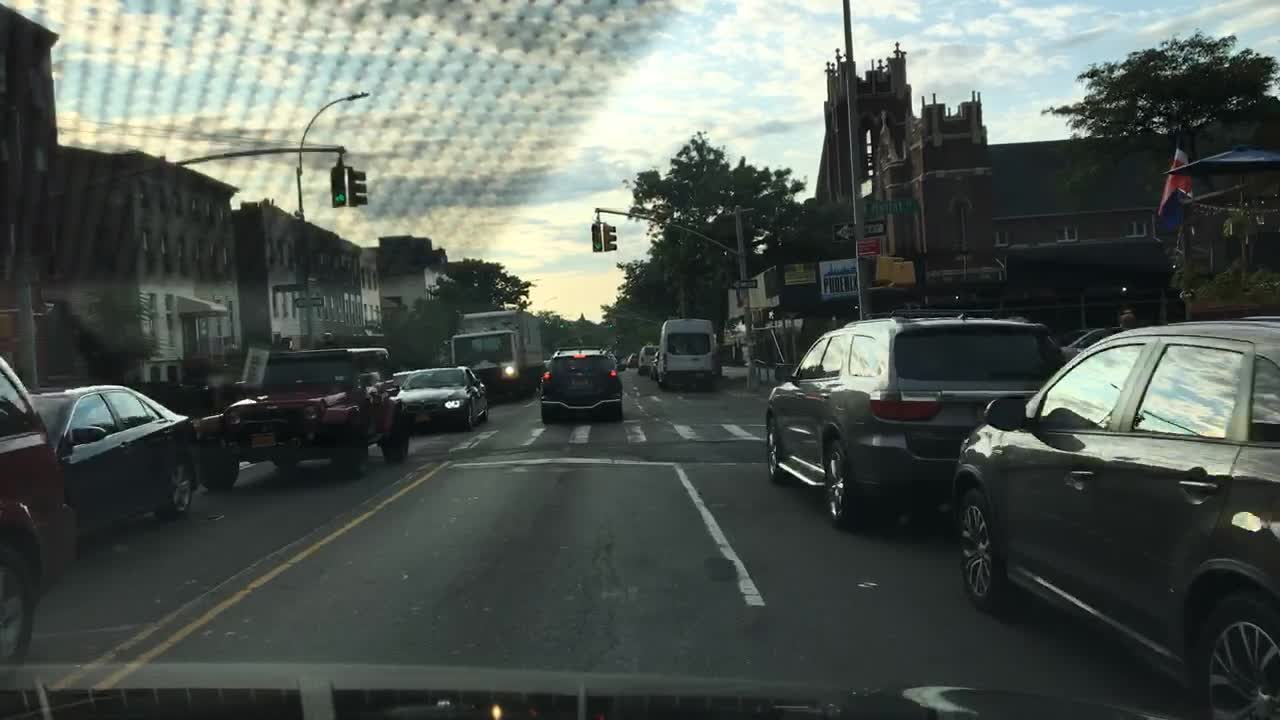car: (950, 317, 1279, 719), (764, 307, 1068, 530), (23, 385, 202, 542), (0, 354, 77, 661), (536, 347, 624, 427), (398, 366, 489, 435), (658, 317, 719, 395), (1051, 322, 1113, 363), (388, 368, 415, 396), (634, 341, 656, 371), (648, 353, 661, 381), (624, 351, 638, 366)
person: (1113, 305, 1137, 331)
traffic light: (872, 251, 899, 285), (347, 167, 368, 206), (329, 167, 346, 206), (894, 258, 914, 290), (589, 221, 602, 251), (278, 332, 300, 349), (604, 226, 617, 253), (759, 307, 779, 322)
traffic sign: (830, 221, 882, 241), (860, 199, 919, 212), (293, 293, 325, 309), (268, 280, 302, 293), (727, 277, 759, 290), (854, 236, 874, 255), (860, 179, 874, 192)
truck: (192, 347, 410, 494), (447, 309, 543, 405)
